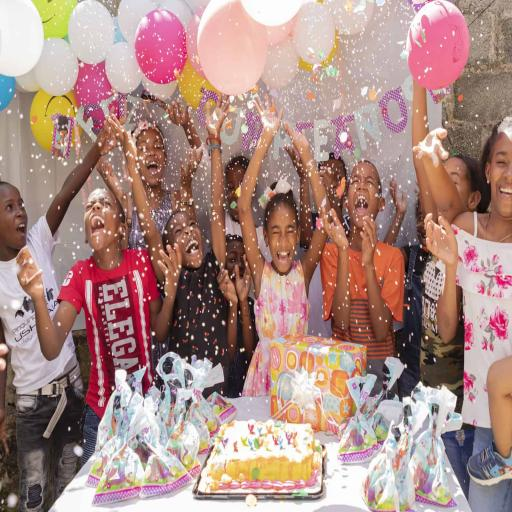baloon: (0, 6, 38, 70)
cake: (220, 425, 308, 476)
gift: (277, 338, 358, 432)
person_Detection: (75, 197, 150, 410), (0, 185, 64, 427), (172, 213, 230, 401), (75, 199, 113, 289)
pink: (261, 262, 311, 382)
